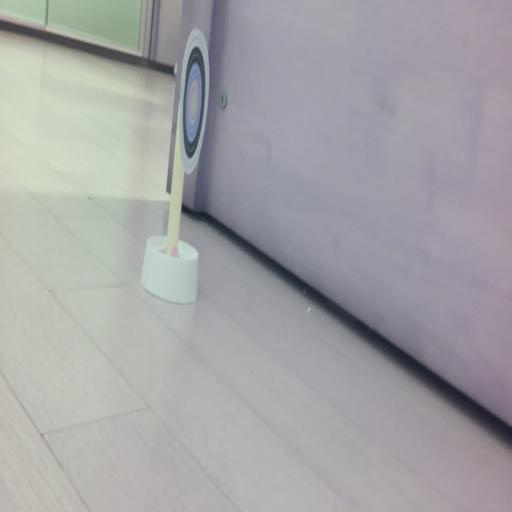target: (176, 27, 209, 174)
